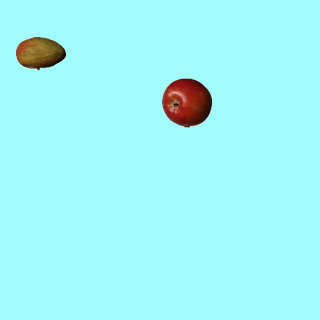Apple Braeburn: (161, 77, 211, 127)
Papaya: (15, 28, 65, 78)
